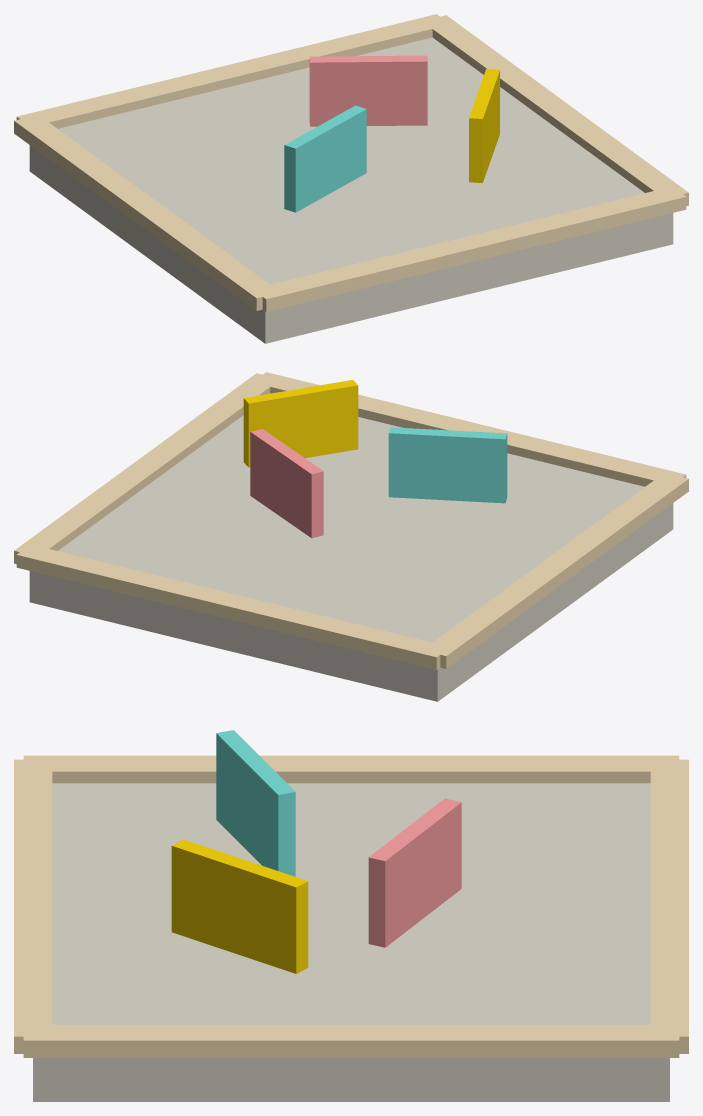
The model's file is city.bike_graveyard.glb.
The picture shows the model from 3 angles, top to bottom: view 1: azimuth 30°, elevation 25°; view 2: azimuth 150°, elevation 25°; view 3: azimuth 270°, elevation 25°; orthographic projection. The views are drawn at different scales.
Visible parts, largest first — view 1: city.bike_graveyard; view 2: city.bike_graveyard; view 3: city.bike_graveyard.
Part boxes in pixels (<box>): city.bike_graveyard: <box>14,14,688,343</box>; city.bike_graveyard: <box>14,372,688,701</box>; city.bike_graveyard: <box>14,730,688,1101</box>.
Bounding box in the file's own units: 2.12 × 0.57 × 2.12.
